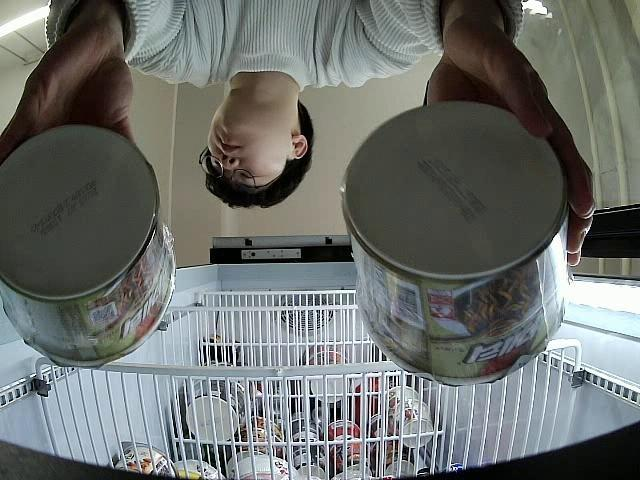03_chapagetti_L: (341, 98, 568, 386), (0, 124, 177, 369)
